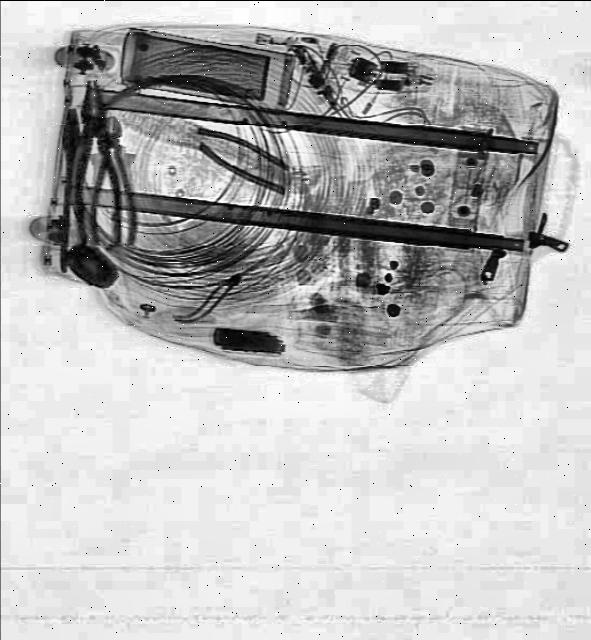Pliers: (68, 82, 124, 248), (88, 118, 140, 245)
